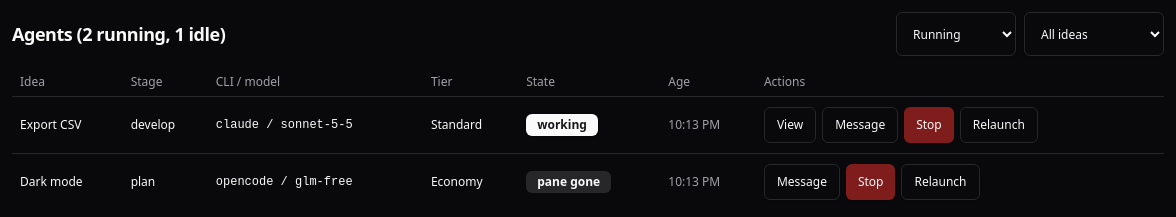
Scenario: AgentsView list › filters by idea
This screenshot has width=1176, height=217.
Step 1. Select "Dark mode" in the dropdown named "Idea" → (1094, 34), box x1=1024 y1=12 x2=1164 y2=56
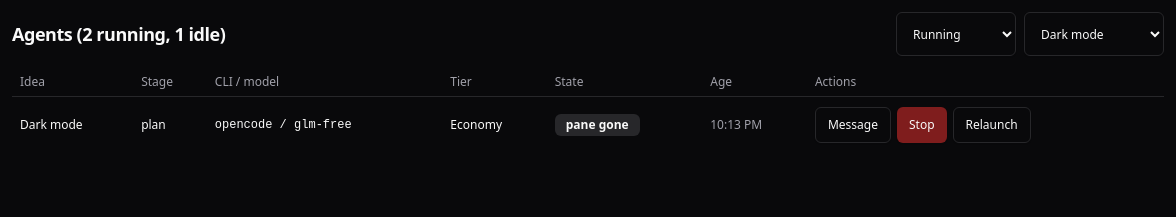
Expected: the button "Dark mode" is shown, x1=20 y1=103 x2=83 y2=147
Result: the button "Export CSV" is gone
